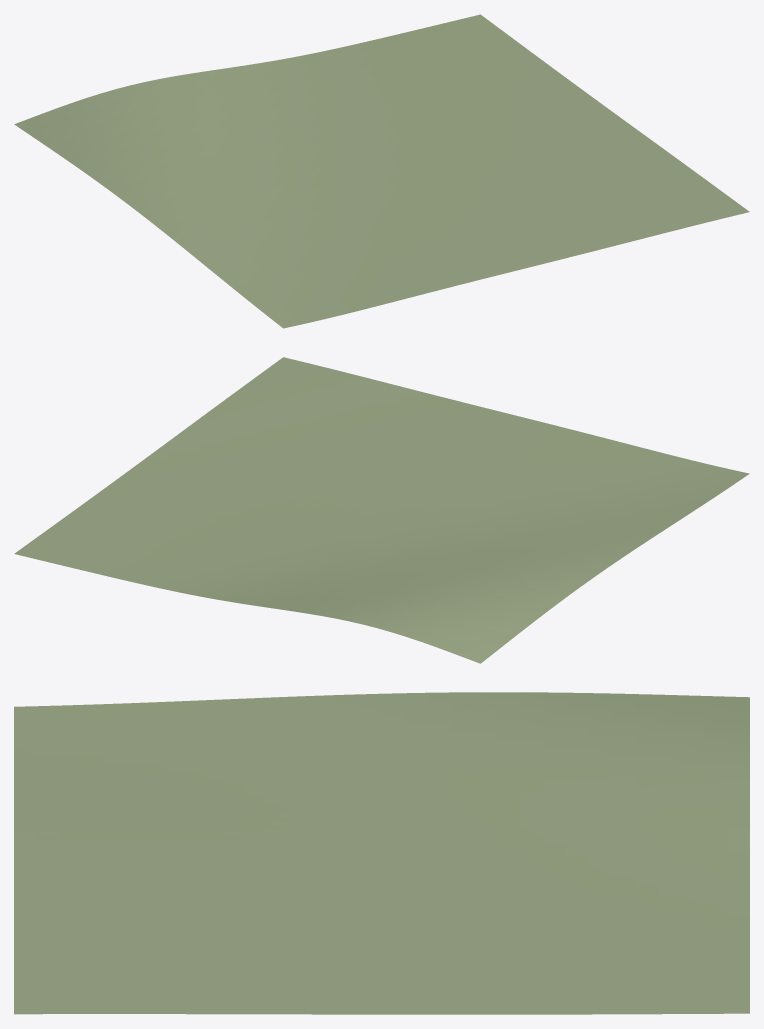
File: desert-10-9.glb
The picture shows the model from 3 angles, top to bottom: view 1: azimuth 30°, elevation 25°; view 2: azimuth 150°, elevation 25°; view 3: azimuth 270°, elevation 25°; orthographic projection. The views are drawn at different scales.
Visible parts, largest first — view 1: desert-10-9; view 2: desert-10-9; view 3: desert-10-9.
Part boxes in pixels (x1,y1,x2,y2): desert-10-9: (14,14,749,328); desert-10-9: (14,357,749,663); desert-10-9: (14,692,749,1014).
Size of the model in its own units: 512 by 19.26 by 512.
